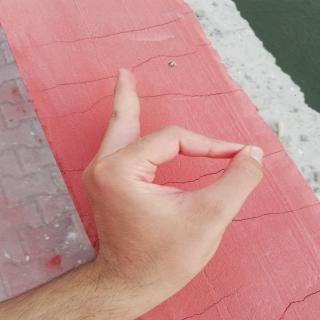Space: (80, 62, 269, 294)
